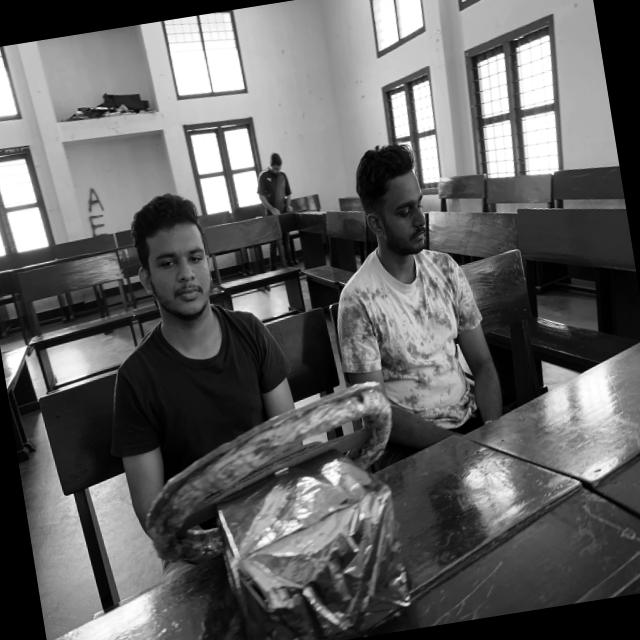no-seatbelt: (96, 296, 332, 582), (326, 235, 528, 480)
